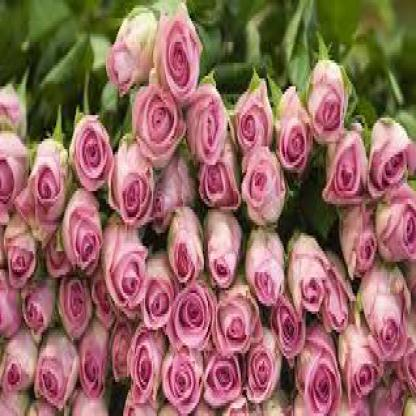Rose-Mawar: (1, 17, 416, 414)
